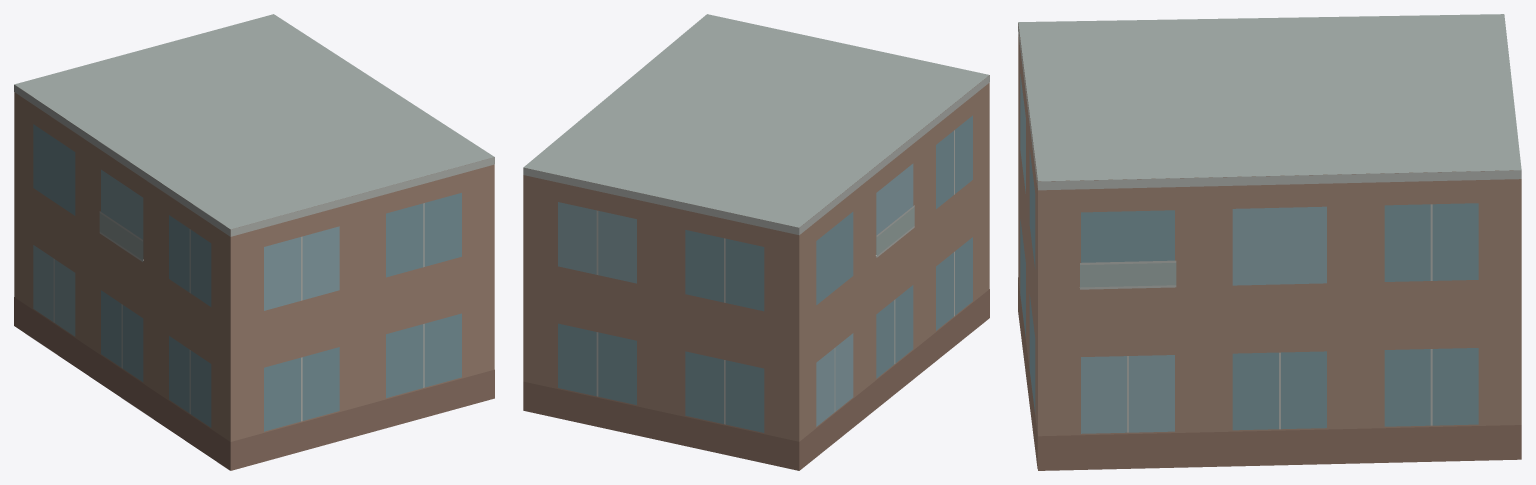
The model's file is survey-upis-32728316.glb.
The picture shows the model from 3 angles, left to right: view 1: azimuth 30°, elevation 25°; view 2: azimuth 150°, elevation 25°; view 3: azimuth 270°, elevation 25°; orthographic projection. The views are drawn at different scales.
Parts seen in each view (by area): view 1: survey-upis-32728316.tmp; view 2: survey-upis-32728316.tmp; view 3: survey-upis-32728316.tmp.
Boxes of the visible parts, bbox=[...] form: survey-upis-32728316.tmp: bbox=[14, 14, 494, 470]; survey-upis-32728316.tmp: bbox=[523, 14, 989, 470]; survey-upis-32728316.tmp: bbox=[1018, 14, 1521, 470].
Bounding box in the file's own units: 9.81 × 7.9 × 12.46.
